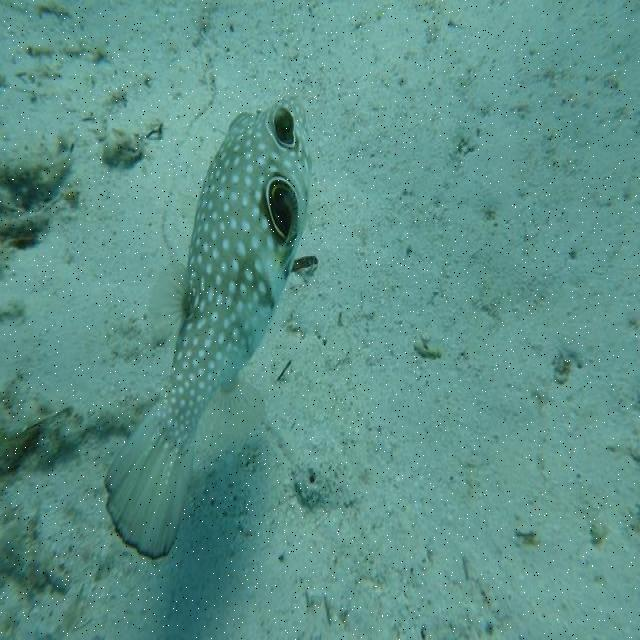fish: (103, 103, 314, 561)
